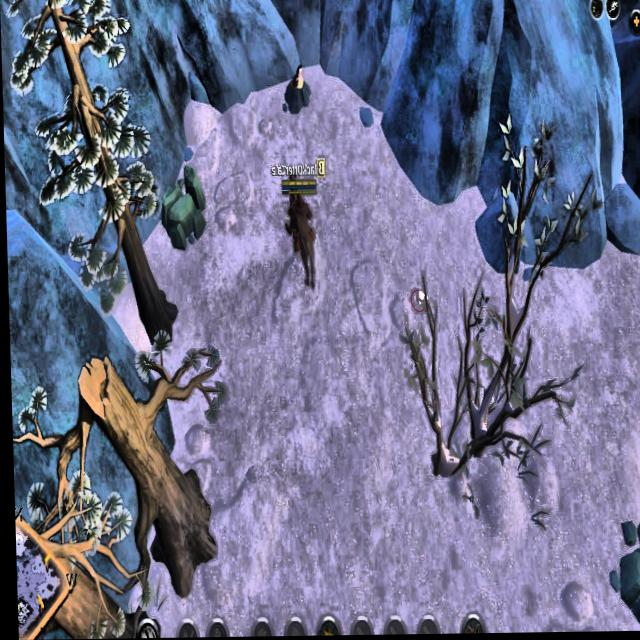copperore: (280, 57, 314, 118)
sandstone: (156, 160, 207, 253), (609, 517, 640, 633)
